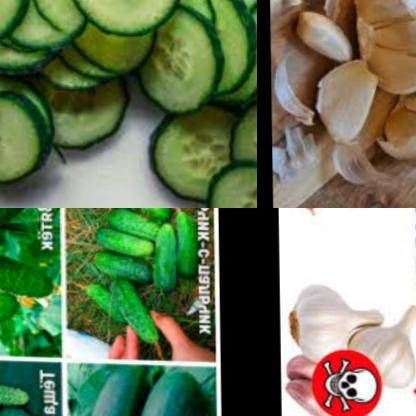cucumber: (0, 0, 257, 199), (85, 208, 201, 334), (72, 371, 194, 416), (0, 242, 59, 302), (0, 367, 40, 410), (0, 291, 29, 341), (0, 399, 70, 416)
garlic: (283, 269, 389, 361), (313, 52, 384, 149), (366, 32, 416, 169), (354, 0, 416, 99), (350, 298, 416, 391), (290, 5, 352, 66), (282, 355, 339, 416)
